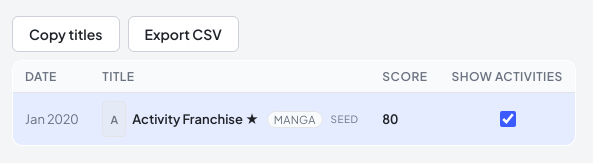
Test: score and calendar favourite annotations › renders activity checkboxes only while activities are enabled
The image size is (593, 163).
Click the checkbox named "Show activities for Activity Franchise" at (508, 119), box [500,111,516,127]
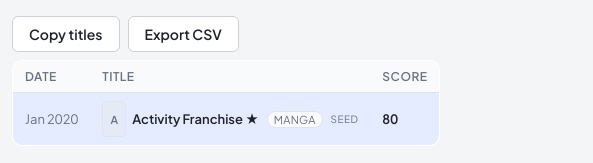
Expected: the column heading with class "tool-franchise-th-activities" is gone
